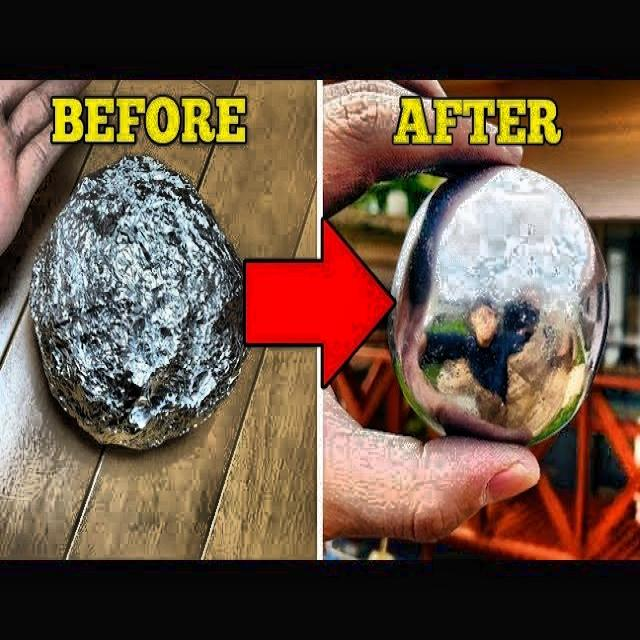Foil: (18, 139, 260, 458)
